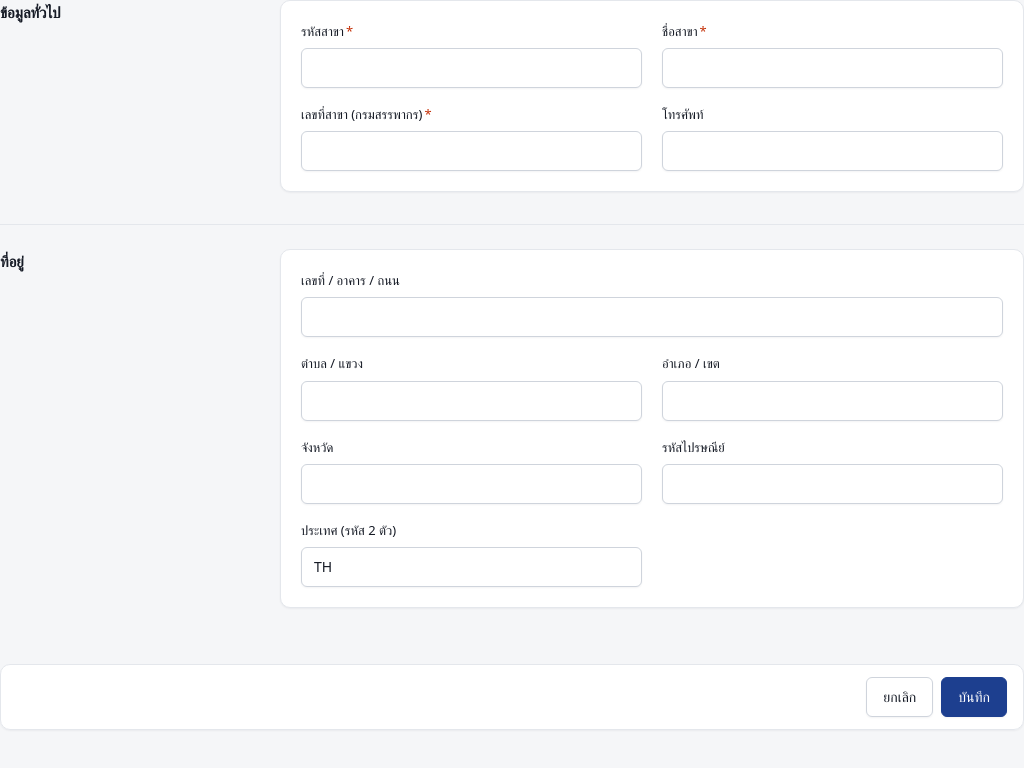
BranchForm › ตรวจข้อมูลก่อนส่ง และไม่เรียก API
The image size is (1024, 768).
Type "12" into the field labelled "เลขที่สาขา (กรมสรรพากร)".
click(472, 151); type("12")  # box left=302, top=132, right=641, bottom=170
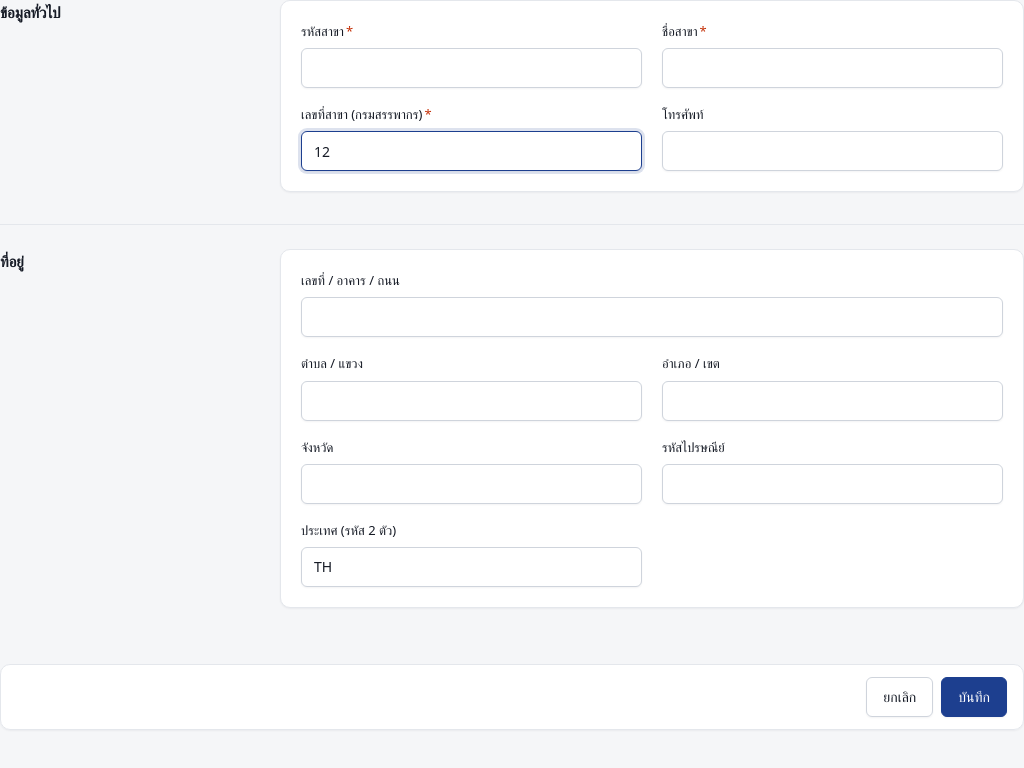
Type "123" into the field labelled "รหัสไปรษณีย์".
click(832, 484); type("123")  # box left=663, top=465, right=1002, bottom=503
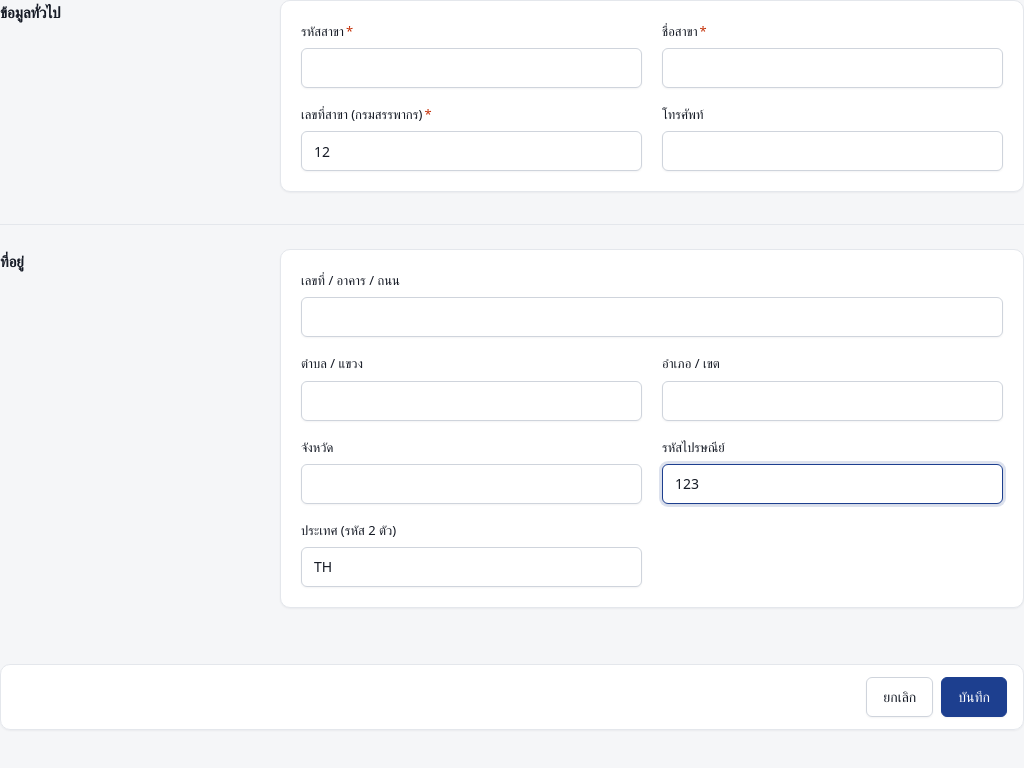
Click the button "บันทึก".
click(974, 697)  # box left=941, top=677, right=1007, bottom=717
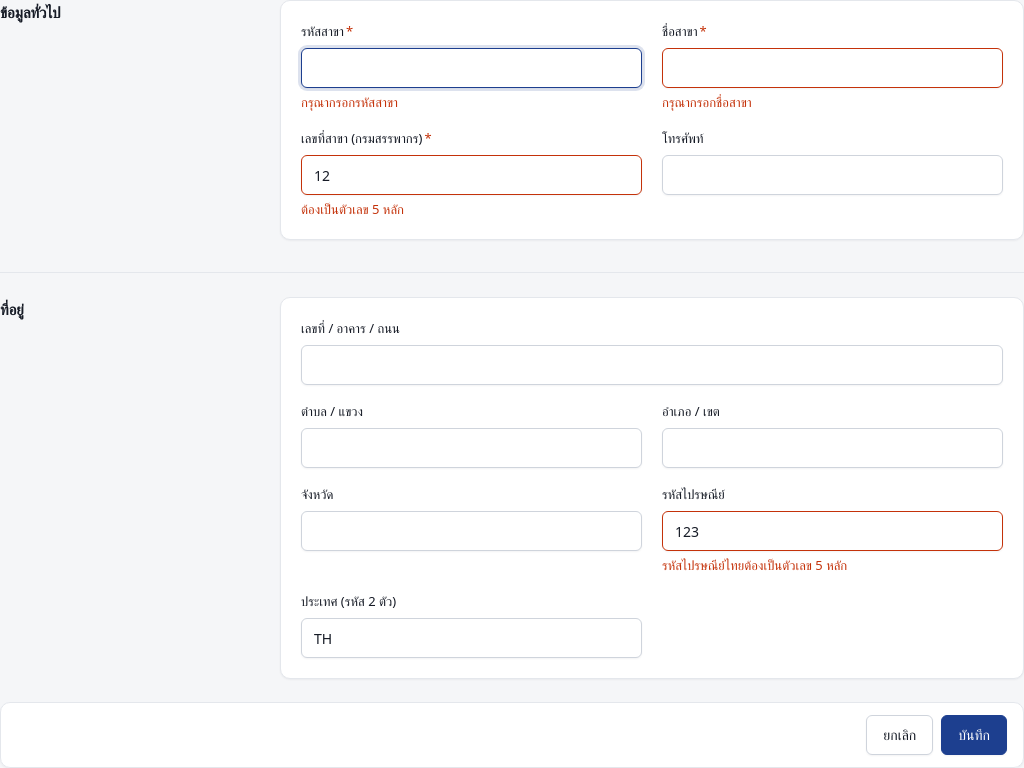
Expected: the text "ต้องเป็นตัวเลข 5 หลัก" is shown, left=301, top=200, right=404, bottom=218
Expected: the text "รหัสไปรษณีย์ไทยต้องเป็นตัวเลข 5 หลัก" is shown, left=662, top=556, right=847, bottom=574
